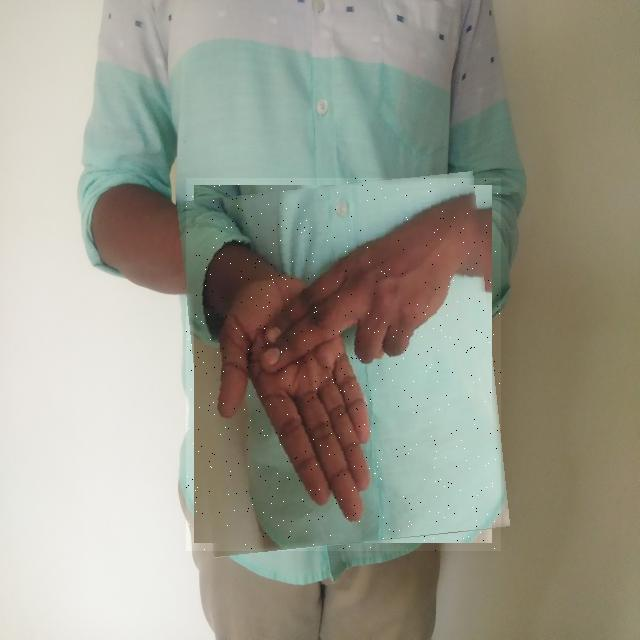N: (186, 178, 501, 551)
